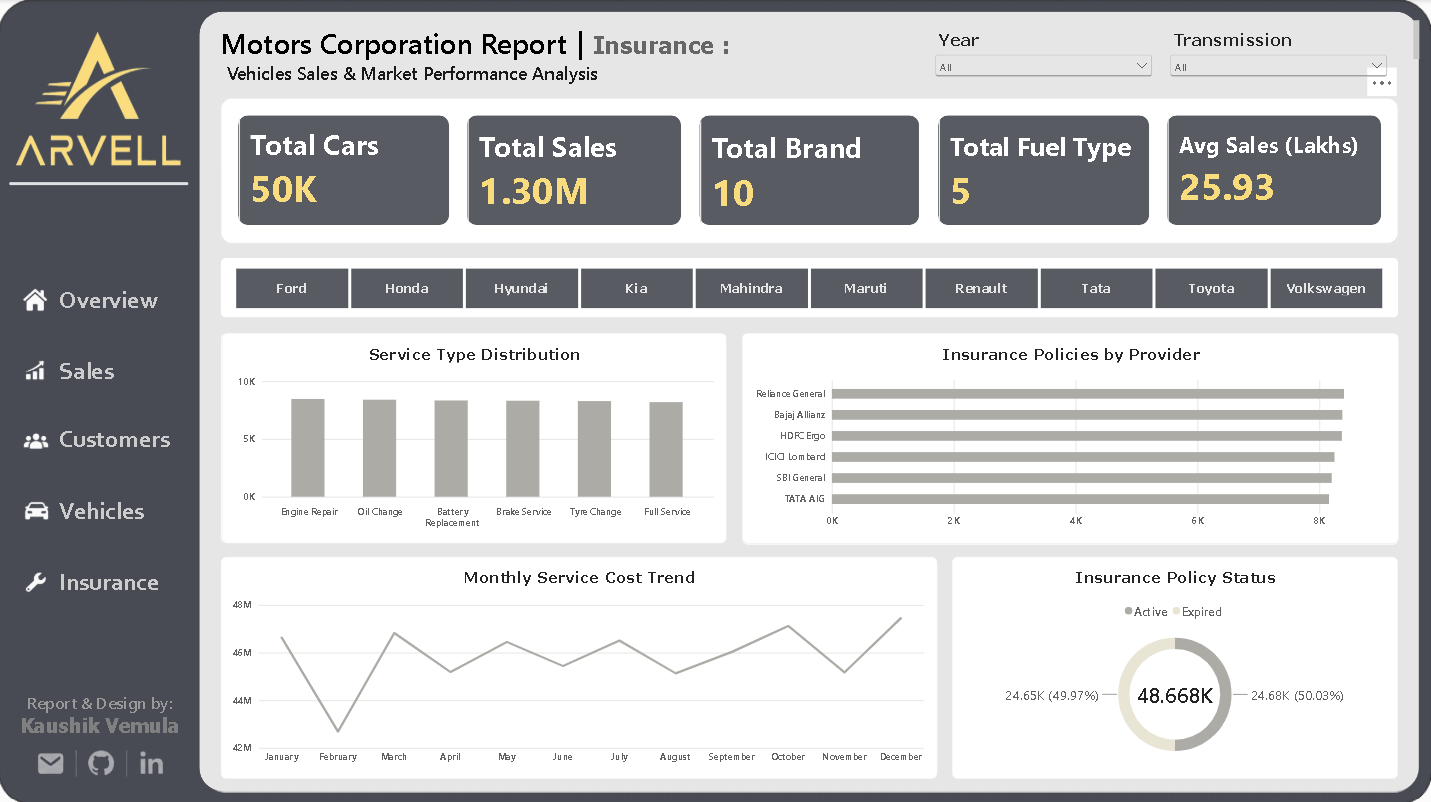

What the dashboard file says about the page in this screenshot:
{"tool":"powerbi","page":{"name":"Insurance","canvas":[1920,1080],"ordinal":4},"visuals":[{"type":"shape","box":[269.9,17.5,1634,1044.6],"z":0},{"type":"shape","box":[297.6,132.8,1578.6,195.5],"z":1000},{"type":"shape","box":[321,156.1,283,147.4],"z":2000},{"type":"shape","box":[1565.5,156.1,287.4,147.4],"z":3000},{"type":"shape","box":[1259.1,156.1,283,147.4],"z":4000},{"type":"shape","box":[939.6,156.1,294.7,147.4],"z":5000},{"type":"shape","box":[627.4,156.1,287.4,147.4],"z":6000},{"type":"textbox","box":[298,28,1606,54],"z":12000},{"type":"textbox","box":[307.1,81.4,847.1,52.9],"z":13000},{"type":"image","box":[15,26.7,240,215],"z":14000},{"type":"shape","box":[15.7,191.4,240,112.9],"z":15000},{"type":"textbox","box":[16,928,240,66],"z":16000},{"type":"image","box":[16,994,240,62],"z":17000},{"type":"actionButton","box":[38.4,1004.7,66.3,40.1],"z":18000},{"type":"actionButton","box":[170.9,1004.7,66.3,40.1],"z":19000},{"type":"actionButton","box":[104.7,1004.7,66.3,40.1],"z":20000},{"type":"cardVisual","fields":{"Data":["Count(Master_Car_Data.Car_ID)"]},"box":[320.8,155.4,286.9,145.4],"z":21000},{"type":"cardVisual","fields":{"Data":["Sum(Master_Car_Data.Sale_Price_Lakh)"]},"box":[627.7,156.9,276.9,146.2],"z":22000},{"type":"cardVisual","fields":{"Data":["Count(Master_Car_Data.Brand)"]},"box":[939.2,158.5,294.6,146.2],"z":23000},{"type":"cardVisual","fields":{"Data":["Avg(Master_Car_Data.Sale_Price_Lakh)"]},"box":[1565.4,155.4,292.3,147.7],"z":24000},{"type":"cardVisual","fields":{"Data":["Count(Master_Car_Data.Fuel_Type)"]},"box":[1259.2,156.9,283.8,146.2],"z":25000},{"type":"textbox","box":[81.4,384.3,154.3,44.3],"z":26000},{"type":"textbox","box":[81.4,479.3,155,50],"z":27000},{"type":"textbox","box":[81.7,666.7,156.7,51.7],"z":28000},{"type":"textbox","box":[82,762.2,139.5,45.3],"z":29000},{"type":"textbox","box":[81.4,570,175,41.4],"z":30000},{"type":"image","box":[28.5,384.6,43.1,36.9],"z":31000},{"type":"image","box":[30.9,479.1,38.2,37.3],"z":32000},{"type":"image","box":[31,572,38,38],"z":33000},{"type":"image","box":[31.2,666.2,40,37.5],"z":34000},{"type":"image","box":[31.2,762.5,37.5,37.5],"z":35000},{"type":"actionButton","box":[30,473.3,141.7,48.3],"z":36000},{"type":"actionButton","box":[28,568,208,48],"z":37000},{"type":"actionButton","box":[28.6,661.4,175.7,48.6],"z":38000},{"type":"actionButton","box":[31.4,758.7,190.1,48.8],"z":39000},{"type":"actionButton","box":[25.7,378.6,195.7,48.6],"z":40000},{"type":"shape","box":[298.3,347.1,1578.5,80.2],"z":41000},{"type":"advancedSlicerVisual","fields":{"Values":["Master_Car_Data.Brand"]},"box":[298.3,360,1578.3,55],"z":41001},{"type":"slicer","fields":{"Values":["Master_Car_Data.Year"]},"box":[1252,42,300,66],"z":41002},{"type":"slicer","fields":{"Values":["Master_Car_Data.Transmission"]},"box":[1566,42,300,66],"z":41003},{"type":"shape","box":[298.3,446.5,678.5,282.6],"z":41004},{"type":"shape","box":[995.9,446.5,880.8,284.3],"z":41005},{"type":"shape","box":[300,746.5,959.3,298.3],"z":41006},{"type":"shape","box":[1278.5,746.5,598.3,298.3],"z":41007},{"type":"lineChart","title":"Monthly Service Cost Trend","fields":{"Category":["Master_Car_Data.Service_Date.Variation.Date Hierarchy.Month"],"Y":["Sum(Master_Car_Data.Service_Cost)"]},"box":[298.3,746.5,961,298.3],"z":41008},{"type":"donutChart","title":"Insurance Policy Status","fields":{"Category":["Master_Car_Data.Status"],"Y":["Count(Master_Car_Data.Policy_Number)"]},"box":[1278.5,746.5,598.3,298.3],"z":41009},{"type":"columnChart","title":"Service Type Distribution","fields":{"Category":["Master_Car_Data.Service_Type"],"Y":["CountNonNull(Master_Car_Data.Service_Center)"]},"box":[300,446.5,676.7,282.6],"z":41010},{"type":"barChart","title":"Insurance Policies by Provider","fields":{"Category":["Master_Car_Data.Provider"],"Y":["Count(Master_Car_Data.Policy_Number)"]},"box":[995.9,446.5,880.8,282.6],"z":41011}]}

Visuals, with their boxes on the page's 1920x1080 design canvas (x1, y1, x2, y2). These are canvas units, not pixel positions in the 1431x802 screenshot, which may show the page scaled, cropped or inside an application window:
shape: Rect(270, 18, 1904, 1062)
shape: Rect(298, 133, 1876, 328)
shape: Rect(321, 156, 604, 304)
shape: Rect(1566, 156, 1853, 304)
shape: Rect(1259, 156, 1542, 304)
shape: Rect(940, 156, 1234, 304)
shape: Rect(627, 156, 915, 304)
textbox: Rect(298, 28, 1904, 82)
textbox: Rect(307, 81, 1154, 134)
image: Rect(15, 27, 255, 242)
shape: Rect(16, 191, 256, 304)
textbox: Rect(16, 928, 256, 994)
image: Rect(16, 994, 256, 1056)
actionButton: Rect(38, 1005, 105, 1045)
actionButton: Rect(171, 1005, 237, 1045)
actionButton: Rect(105, 1005, 171, 1045)
cardVisual - Count(Master_Car_Data.Car_ID): Rect(321, 155, 608, 301)
cardVisual - Sum(Master_Car_Data.Sale_Price_Lakh): Rect(628, 157, 905, 303)
cardVisual - Count(Master_Car_Data.Brand): Rect(939, 158, 1234, 305)
cardVisual - Avg(Master_Car_Data.Sale_Price_Lakh): Rect(1565, 155, 1858, 303)
cardVisual - Count(Master_Car_Data.Fuel_Type): Rect(1259, 157, 1543, 303)
textbox: Rect(81, 384, 236, 429)
textbox: Rect(81, 479, 236, 529)
textbox: Rect(82, 667, 238, 718)
textbox: Rect(82, 762, 222, 808)
textbox: Rect(81, 570, 256, 611)
image: Rect(28, 385, 72, 422)
image: Rect(31, 479, 69, 516)
image: Rect(31, 572, 69, 610)
image: Rect(31, 666, 71, 704)
image: Rect(31, 762, 69, 800)
actionButton: Rect(30, 473, 172, 522)
actionButton: Rect(28, 568, 236, 616)
actionButton: Rect(29, 661, 204, 710)
actionButton: Rect(31, 759, 222, 808)
actionButton: Rect(26, 379, 221, 427)
shape: Rect(298, 347, 1877, 427)
advancedSlicerVisual - Master_Car_Data.Brand: Rect(298, 360, 1877, 415)
slicer - Master_Car_Data.Year: Rect(1252, 42, 1552, 108)
slicer - Master_Car_Data.Transmission: Rect(1566, 42, 1866, 108)
shape: Rect(298, 446, 977, 729)
shape: Rect(996, 446, 1877, 731)
shape: Rect(300, 746, 1259, 1045)
shape: Rect(1278, 746, 1877, 1045)
"Monthly Service Cost Trend" lineChart: Rect(298, 746, 1259, 1045)
"Insurance Policy Status" donutChart: Rect(1278, 746, 1877, 1045)
"Service Type Distribution" columnChart: Rect(300, 446, 977, 729)
"Insurance Policies by Provider" barChart: Rect(996, 446, 1877, 729)
